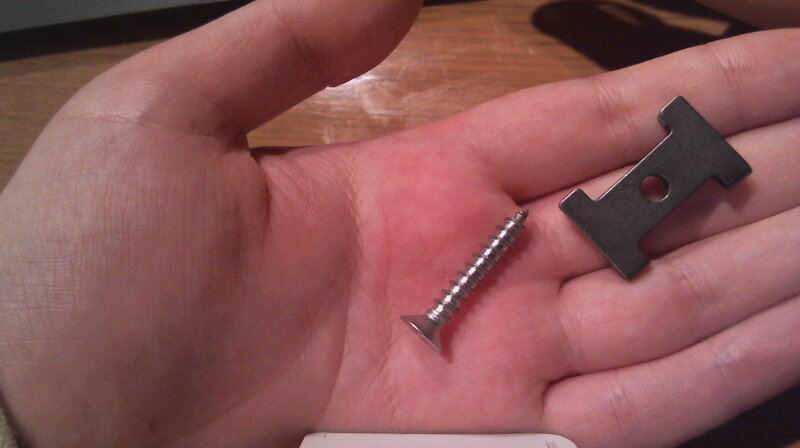O002: (556, 96, 757, 280)
S001: (396, 205, 535, 358)
